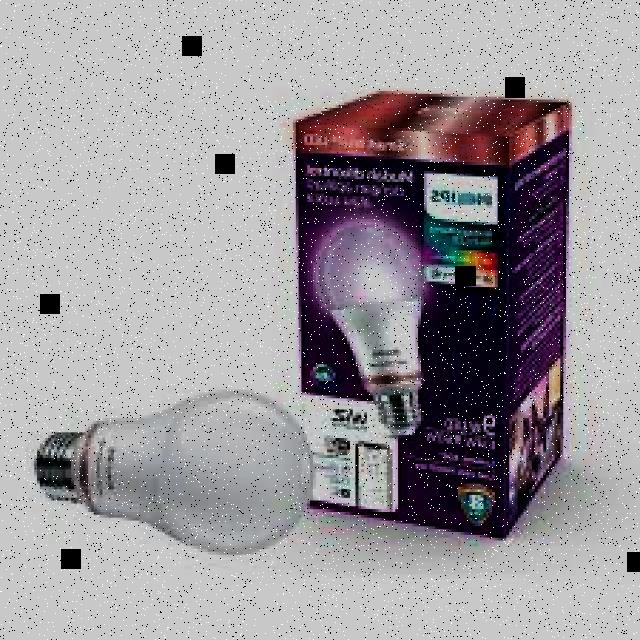light_bulb: (27, 360, 330, 576)
